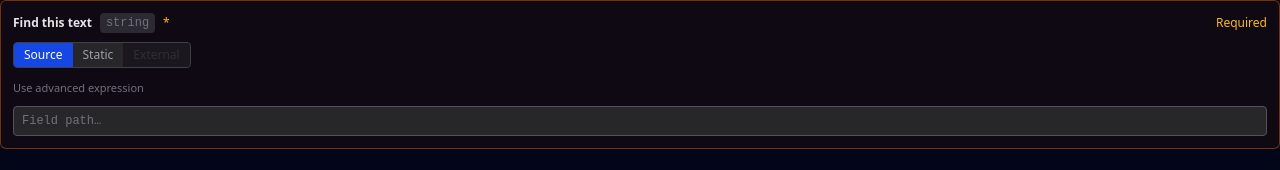
Test: ParameterValueInput — mode switching preserves values › Source→Static→Source preserves source path
This screenshot has width=1280, height=170.
# Type a source path
Type "user.name" into the dropdown with test id "pvi-source-input".
click(640, 121); type("user.name")  # box [13, 106, 1267, 136]
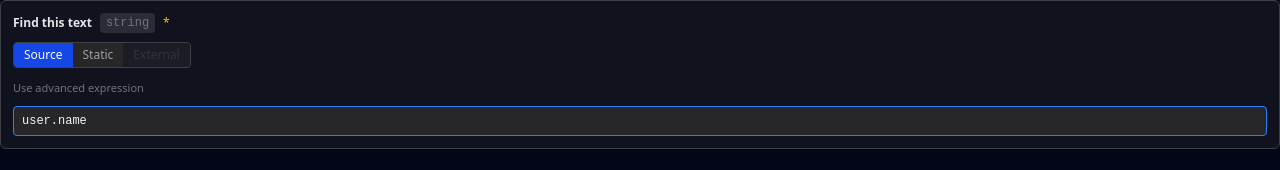
# Switch to Static
Click the radio button with test id "pvi-mode-static".
click(98, 55)  # box [72, 43, 123, 67]
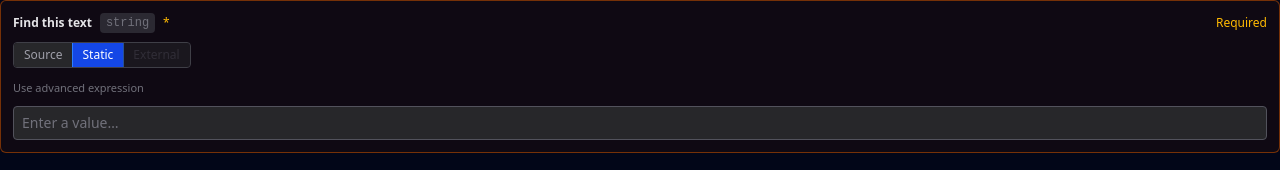
# Switch back to Source
Click the radio button with test id "pvi-mode-source".
click(43, 55)  # box [14, 43, 72, 67]
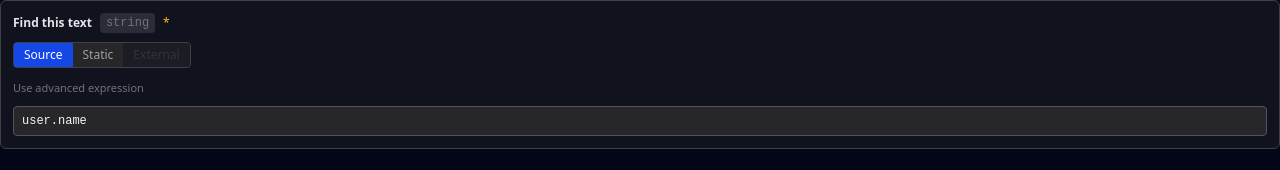
Check: the dropdown with test id "pvi-source-input" holds "user.name", box [13, 106, 1267, 136]
